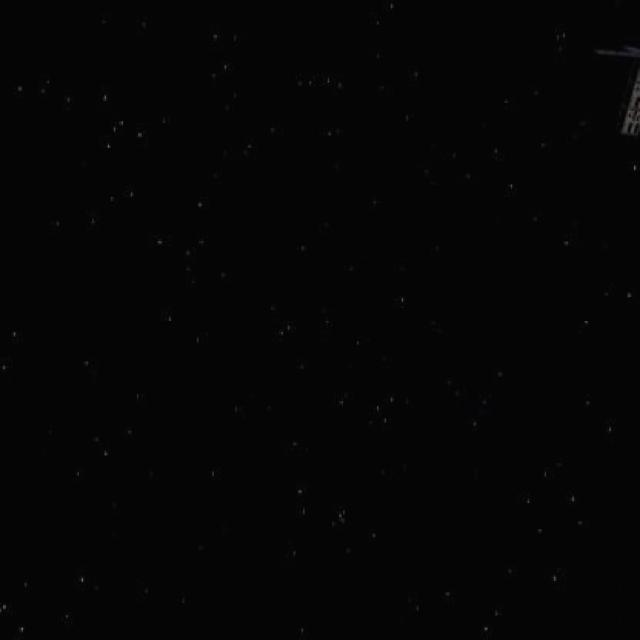satellite: (592, 30, 640, 162)
